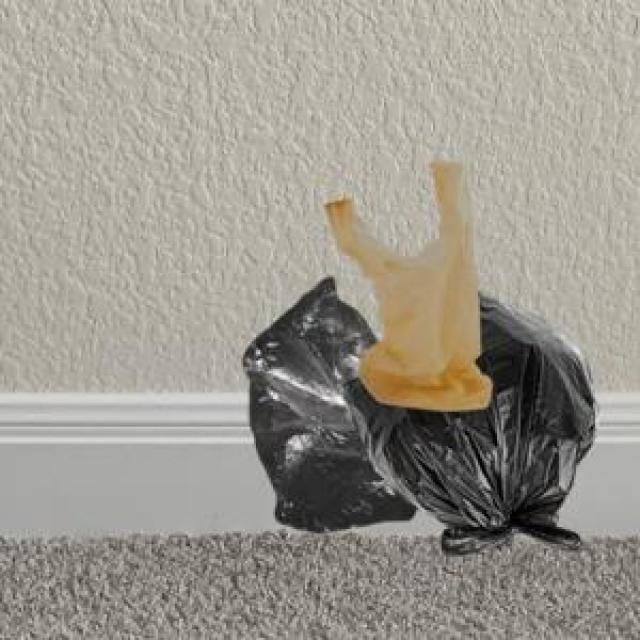miscellaneous trash: (339, 288, 593, 553)
